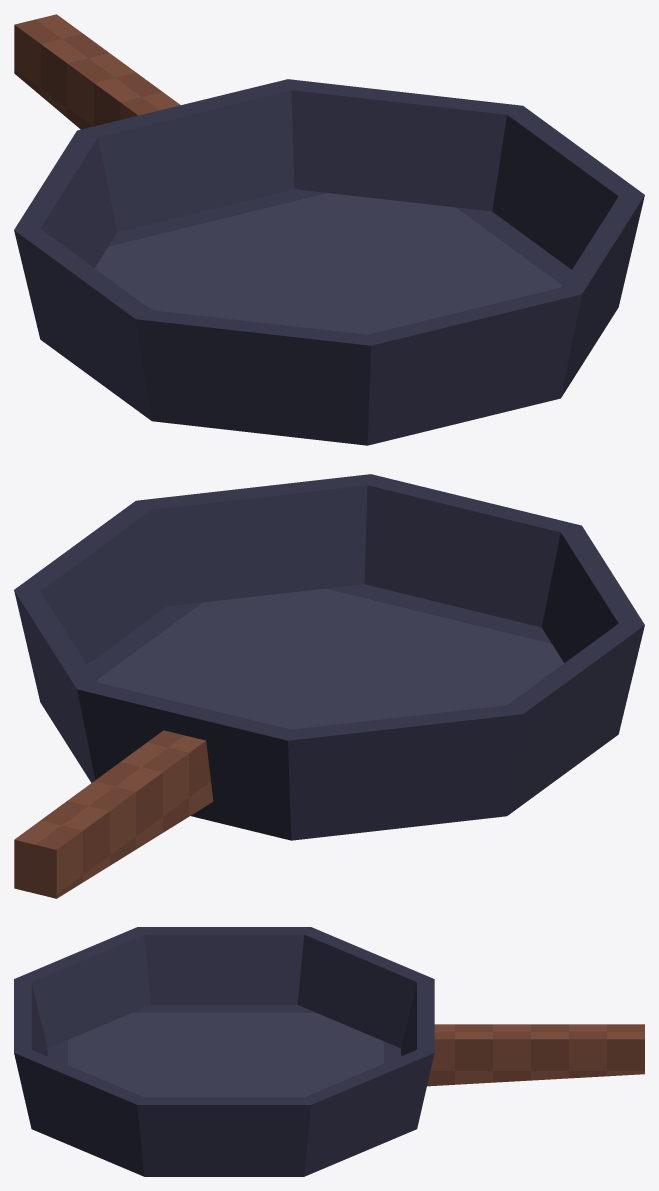
Rendered from pan.obj.
3 renders of one model, top to bottom at view 1: azimuth 30°, elevation 25°; view 2: azimuth 150°, elevation 25°; view 3: azimuth 270°, elevation 25°, orthographic. The views are drawn at different scales.
Parts seen in each view (by area): view 1: cylinder, cuboid; view 2: cylinder, cuboid; view 3: cylinder, cuboid.
Part boxes in pixels (x1,y1,x2,y2): cylinder: [14, 79, 644, 445]; cuboid: [14, 14, 180, 129]; cylinder: [14, 474, 644, 840]; cuboid: [14, 730, 213, 898]; cylinder: [14, 927, 434, 1176]; cuboid: [427, 1024, 644, 1086].
Size of the model in its own units: 0.375 by 0.0781 by 0.5625.
